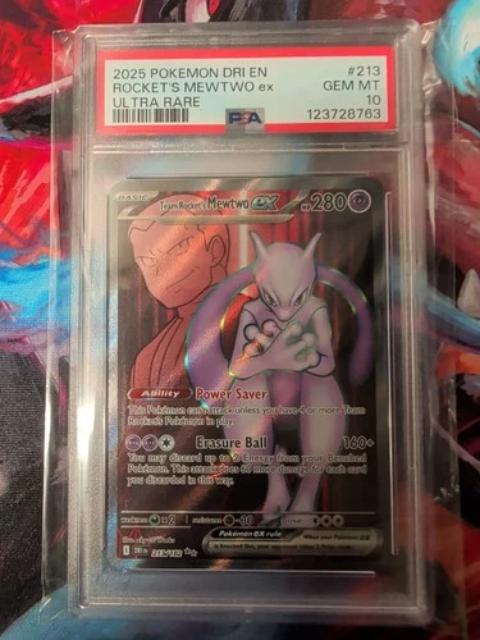Card: (101, 173, 399, 575)
Name: (152, 189, 282, 215)
